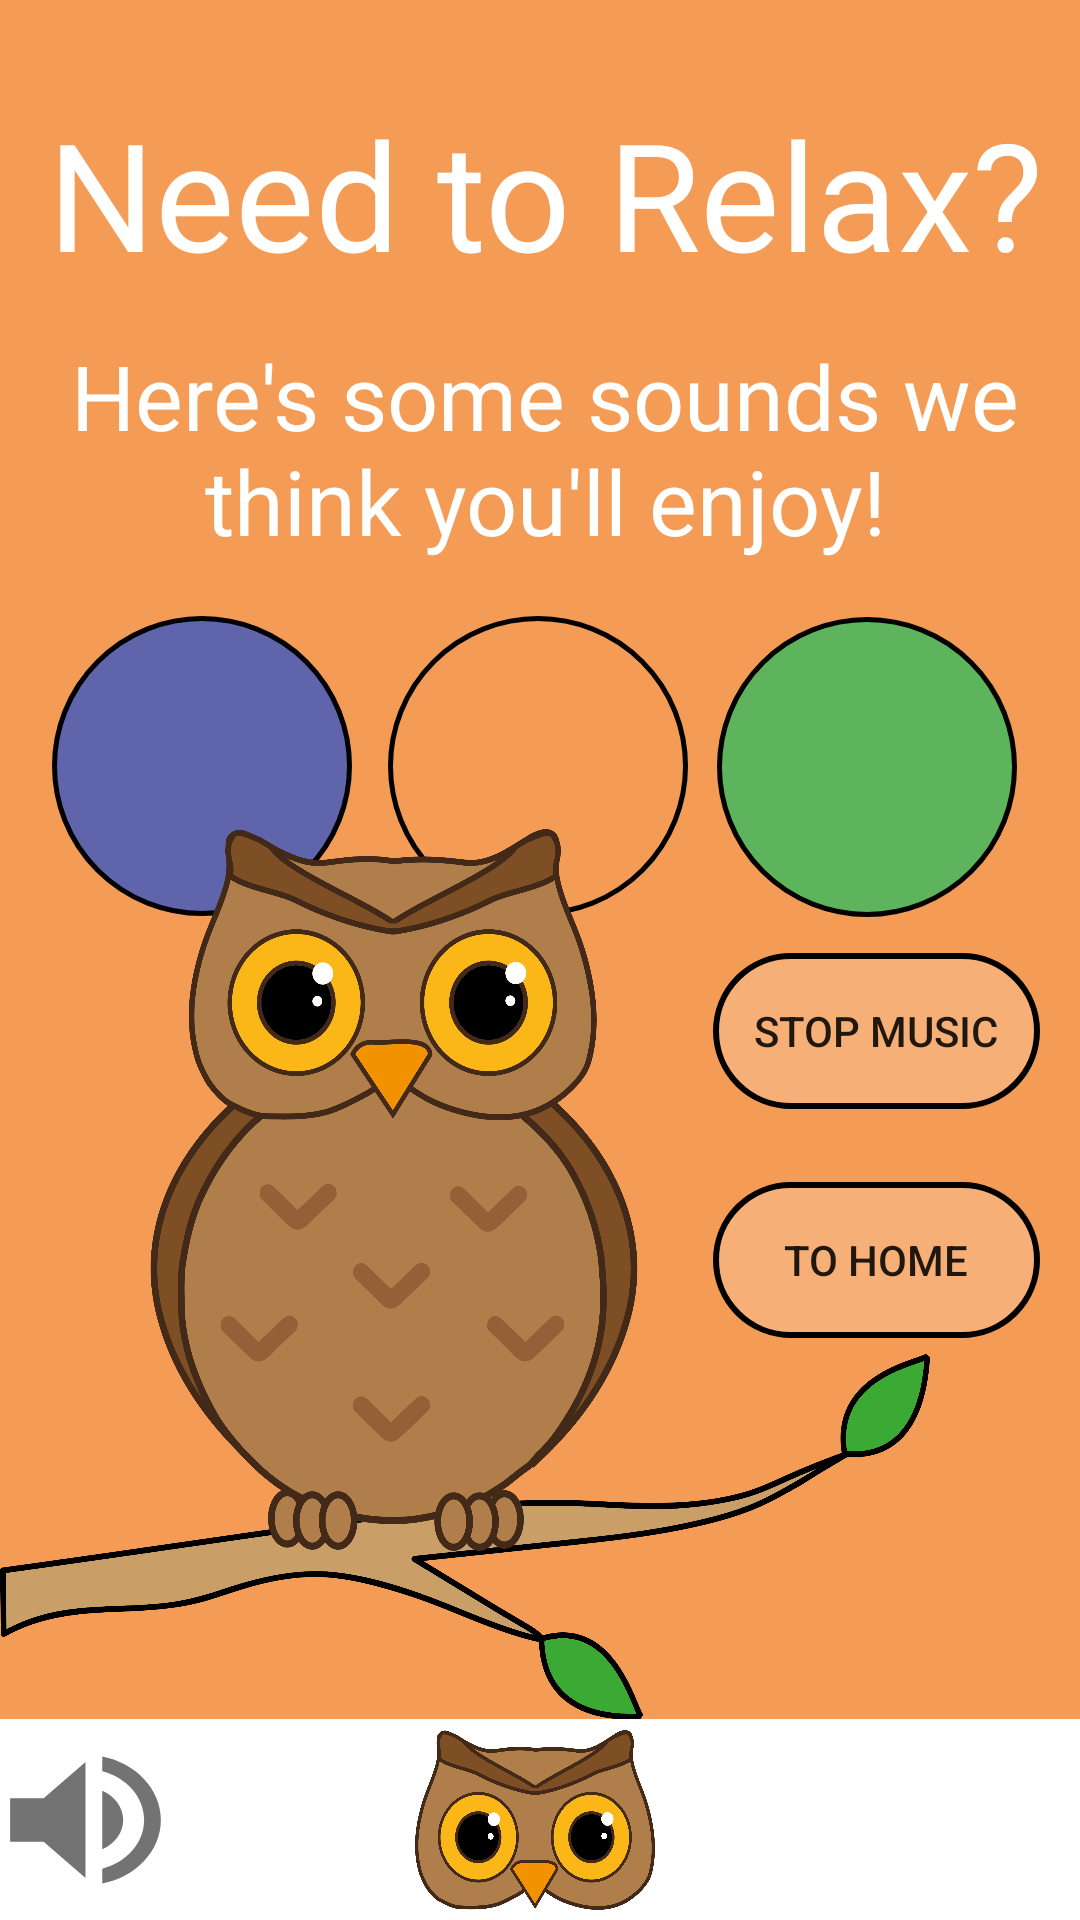

Icon click points for this 1080 × 1920 phone screenshot, format (x,y):
owlheadokay: (535,1820)
volume up highlight: (85,1820)
